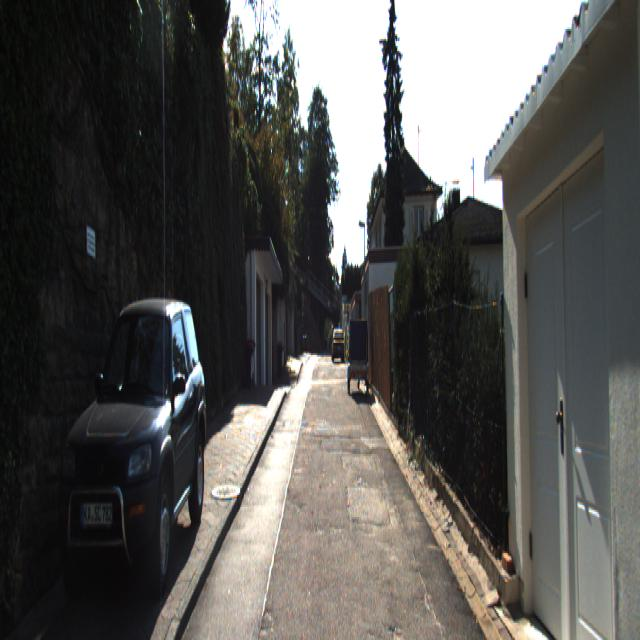Car: (51, 289, 211, 595), (348, 314, 370, 394), (331, 324, 345, 359)
